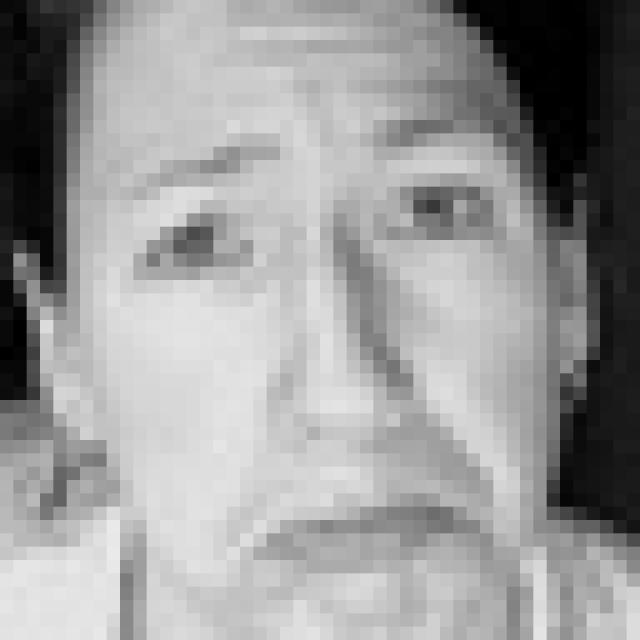sad: (126, 105, 519, 574)
